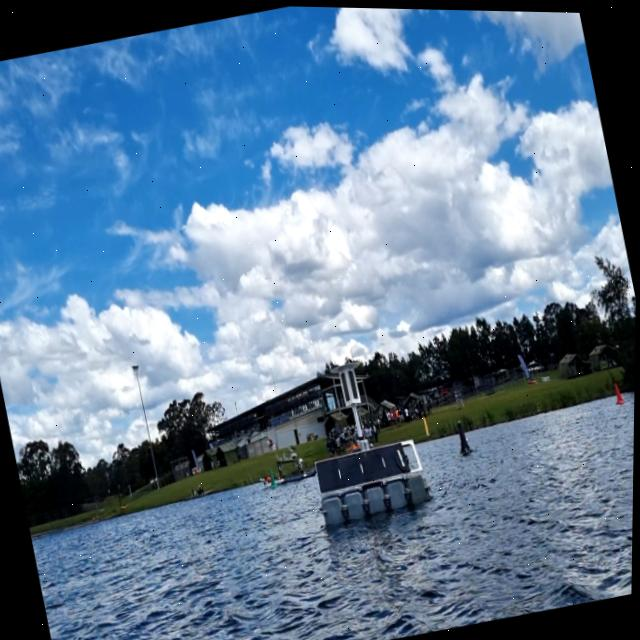led: (339, 366, 362, 402), (347, 366, 361, 399), (339, 370, 353, 402)
